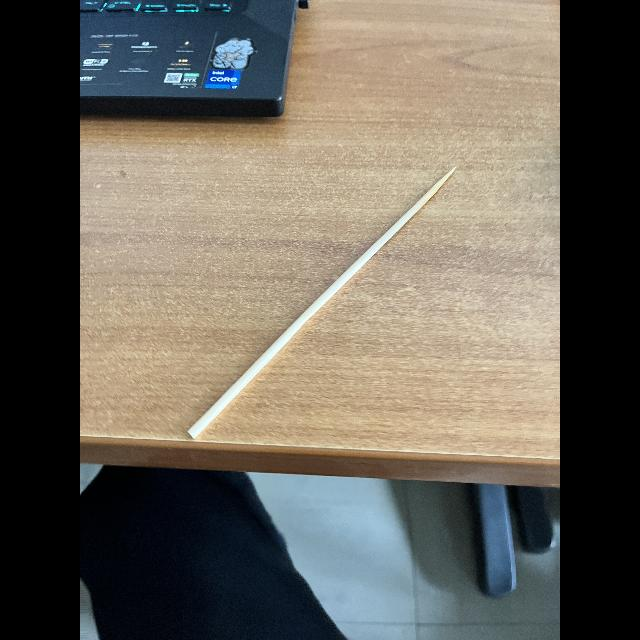stick: (173, 144, 467, 466)
